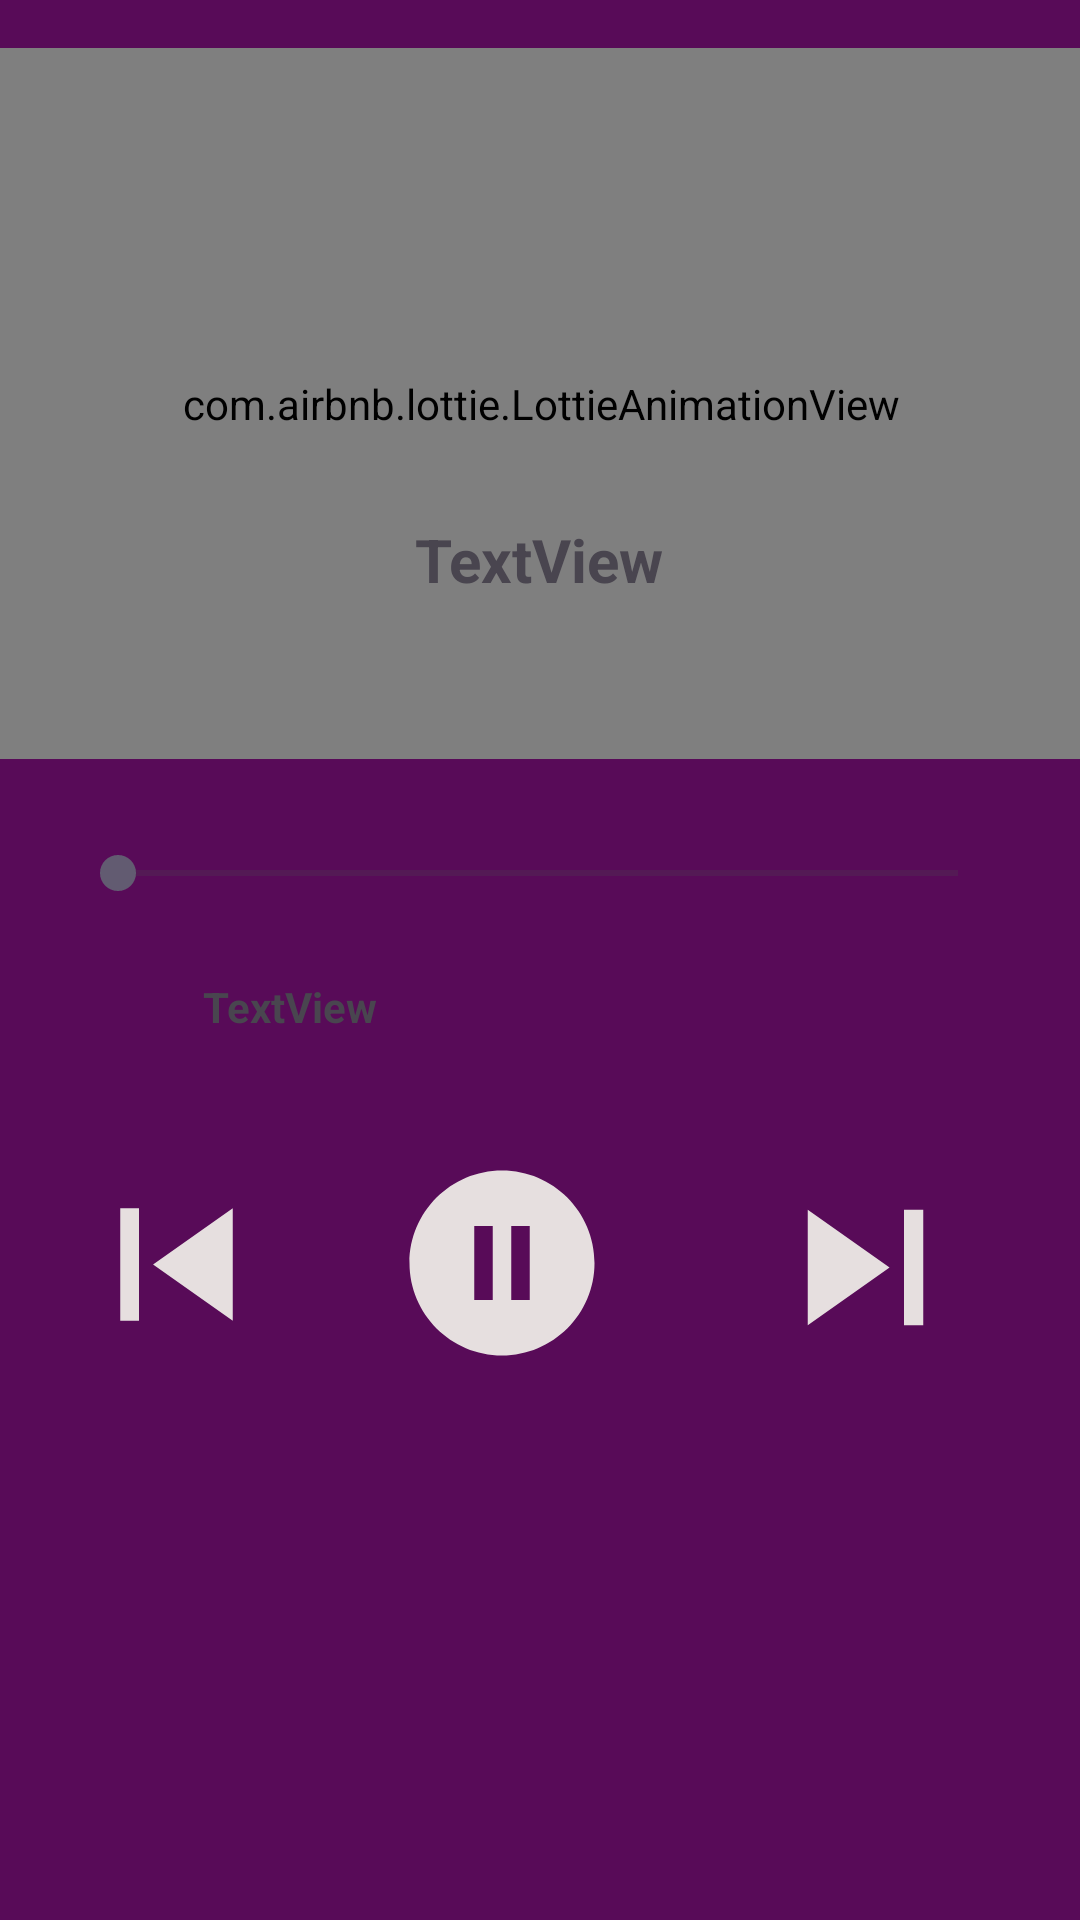

Point at icon controls on the screen. Image size 1080 × 1920, points as (x,y).
next: (865,1267)
pause: (502,1263)
previous: (176,1264)
